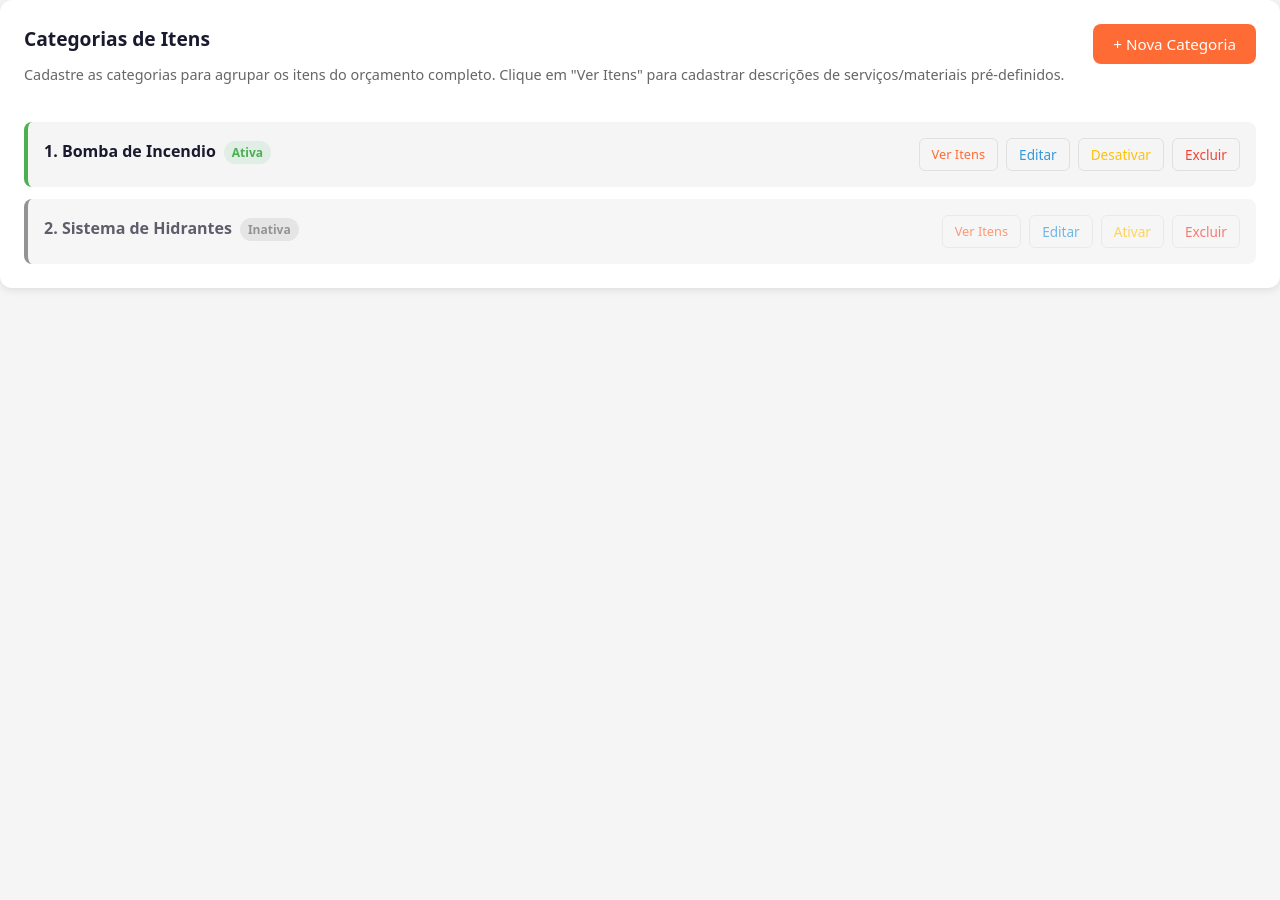
Test: CategoriasTab › Modal de categoria › deve abrir modal ao clicar em nova categoria
Click the button "+ Nova Categoria" at (1175, 44), box [1093, 24, 1256, 64]
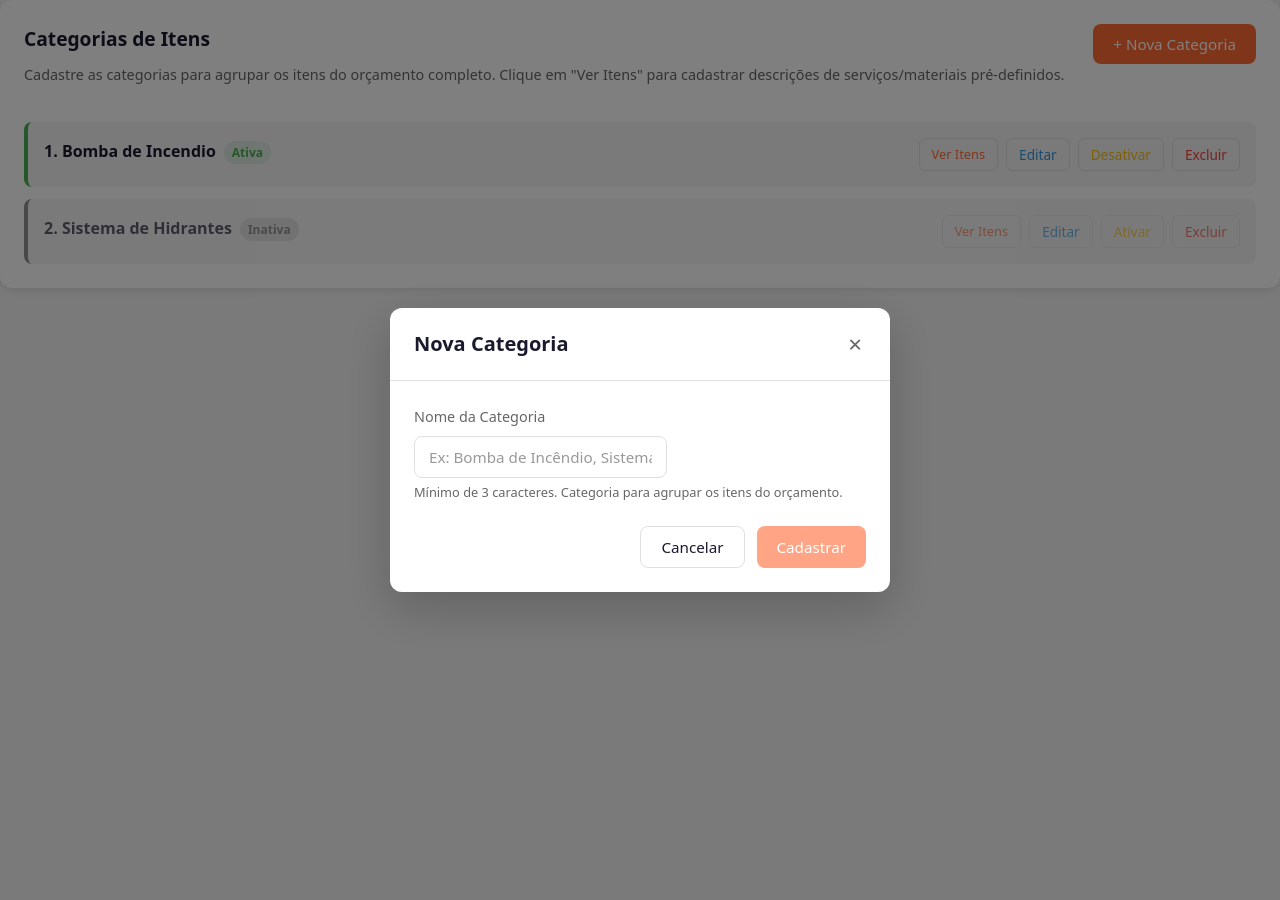
Expected: the heading "Nova Categoria" is shown, [414, 328, 568, 360]
Expected: the text "Nome da Categoria" is shown, [414, 407, 545, 426]
